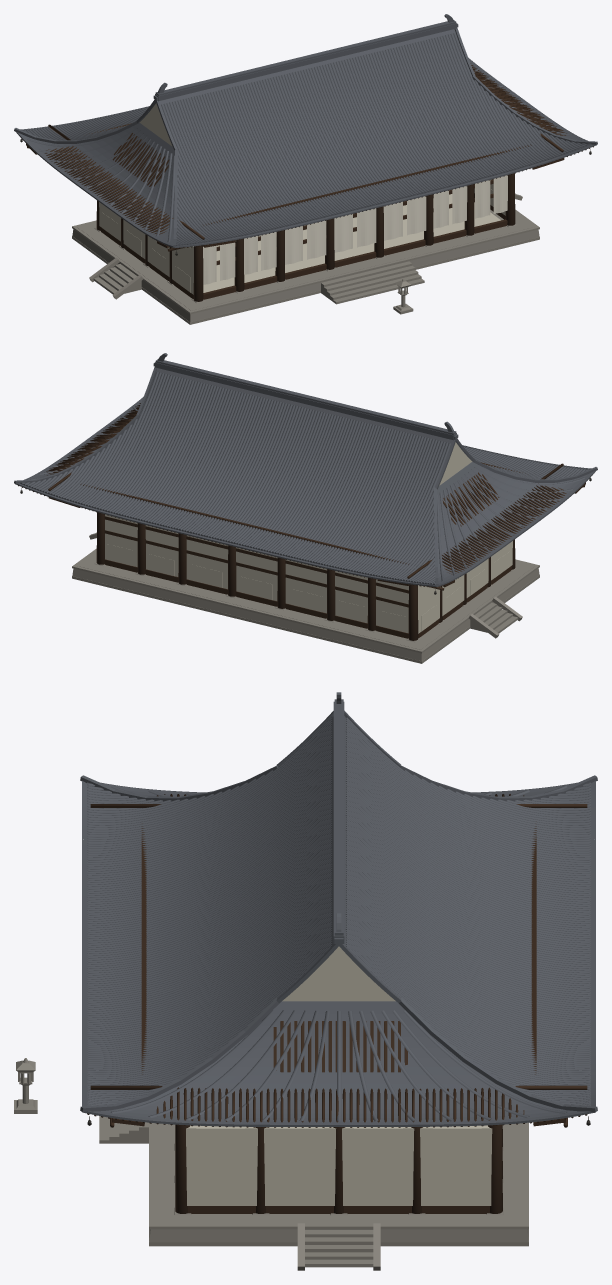
Rendered from jp-02-toshodaiji-kondo.glb.
The picture shows the model from 3 angles, top to bottom: view 1: azimuth 30°, elevation 25°; view 2: azimuth 150°, elevation 25°; view 3: azimuth 270°, elevation 25°; orthographic projection. The views are drawn at different scales.
Parts seen in each view (by area): view 1: 屋根_丸瓦, 屋根_野地, 帷幕_垂れ布, 基壇_壇身, 壁_白壁, 飾_大棟降棟, 基壇_床, 垂木_飛檐垂木, 柱_四十本, 基壇_石階, 頭貫_地覆_長押, 垂木_地垂木 (+2 smaller); view 2: 屋根_丸瓦, 屋根_野地, 壁_白壁, 基壇_壇身, 飾_大棟降棟, 基壇_床, 垂木_飛檐垂木, 頭貫_地覆_長押, 柱_四十本, 垂木_地垂木, 基壇_石階, 屋根_軒瓦 (+1 smaller); view 3: 屋根_丸瓦, 屋根_野地, 壁_白壁, 飾_大棟降棟, 基壇_壇身, 基壇_床, 垂木_飛檐垂木, 基壇_石階, 柱_四十本, 垂木_地垂木, 屋根_妻壁, 頭貫_地覆_長押 (+3 smaller).
Boxes of the visible parts, box(x1,y1,x2,y2) form: 屋根_丸瓦: box(24, 33, 589, 245); 屋根_野地: box(16, 29, 596, 247); 帷幕_垂れ布: box(203, 175, 507, 284); 基壇_壇身: box(72, 209, 539, 324); 壁_白壁: box(99, 179, 505, 294); 飾_大棟降棟: box(14, 20, 597, 247); 基壇_床: box(77, 209, 534, 310); 垂木_飛檐垂木: box(44, 63, 593, 248); 柱_四十本: box(96, 173, 515, 301); 基壇_石階: box(89, 193, 522, 304); 頭貫_地覆_長押: box(100, 179, 507, 299); 垂木_地垂木: box(26, 133, 564, 248); 屋根_丸瓦: box(22, 372, 587, 584); 屋根_野地: box(15, 368, 595, 586); 壁_白壁: box(105, 514, 512, 633); 基壇_壇身: box(72, 548, 539, 663); 飾_大棟降棟: box(14, 359, 597, 586); 基壇_床: box(77, 551, 534, 649); 垂木_飛檐垂木: box(18, 403, 566, 587); 頭貫_地覆_長押: box(104, 516, 511, 638); 柱_四十本: box(96, 512, 515, 640); 垂木_地垂木: box(49, 472, 585, 587); 基壇_石階: box(89, 532, 522, 638); 屋根_軒瓦: box(20, 445, 589, 584); 屋根_丸瓦: box(88, 716, 589, 1121); 屋根_野地: box(82, 716, 595, 1126); 壁_白壁: box(186, 1125, 492, 1205); 飾_大棟降棟: box(80, 699, 597, 1112); 基壇_壇身: box(149, 1122, 528, 1246); 基壇_床: box(154, 1123, 523, 1224); 垂木_飛檐垂木: box(87, 794, 594, 1127); 基壇_石階: box(99, 1116, 380, 1270); 柱_四十本: box(175, 1124, 502, 1213); 垂木_地垂木: box(112, 1021, 565, 1126); 屋根_妻壁: box(282, 946, 395, 1001); 頭貫_地覆_長押: box(188, 1206, 489, 1213).
Size of the model in its own units: 10 by 4.32 by 7.4.
